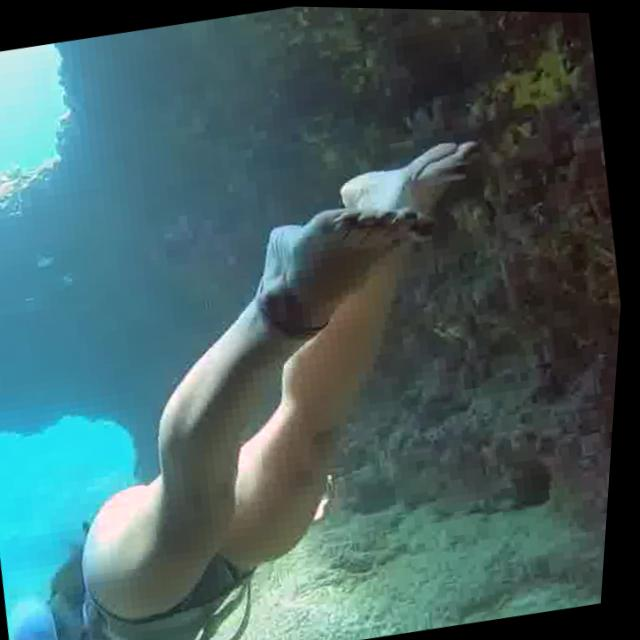human: (0, 114, 571, 640)
